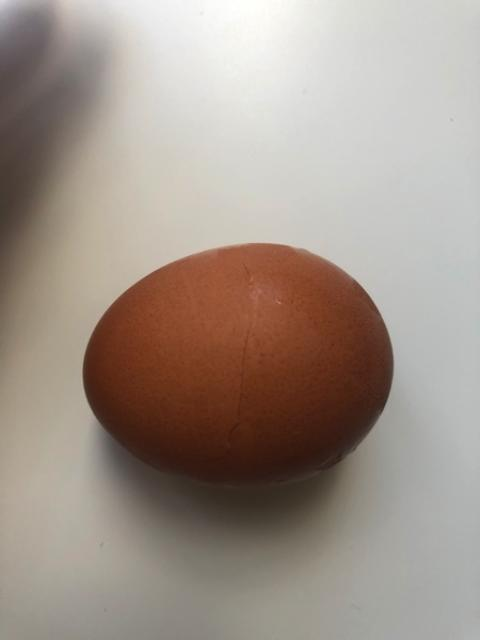Roto: (81, 240, 395, 490)
